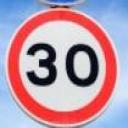speed_limit_30: (5, 7, 116, 124)
